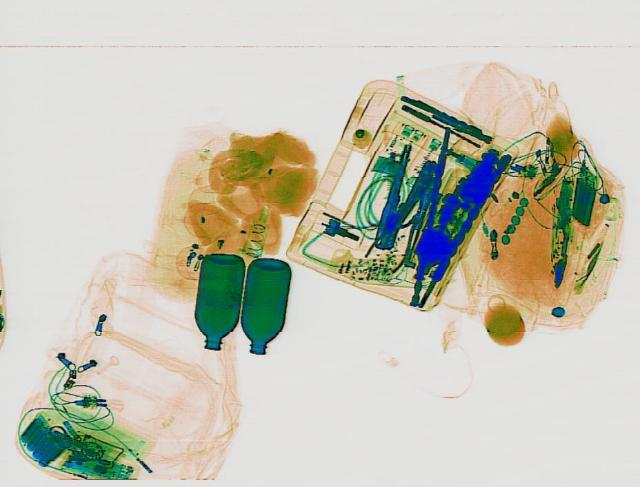Pliers: (362, 153, 436, 250)
